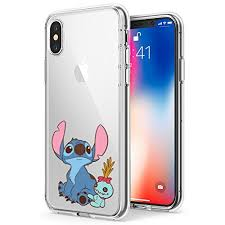iphone: (42, 1, 129, 216)
iphone10: (42, 4, 183, 218), (40, 2, 127, 217)
